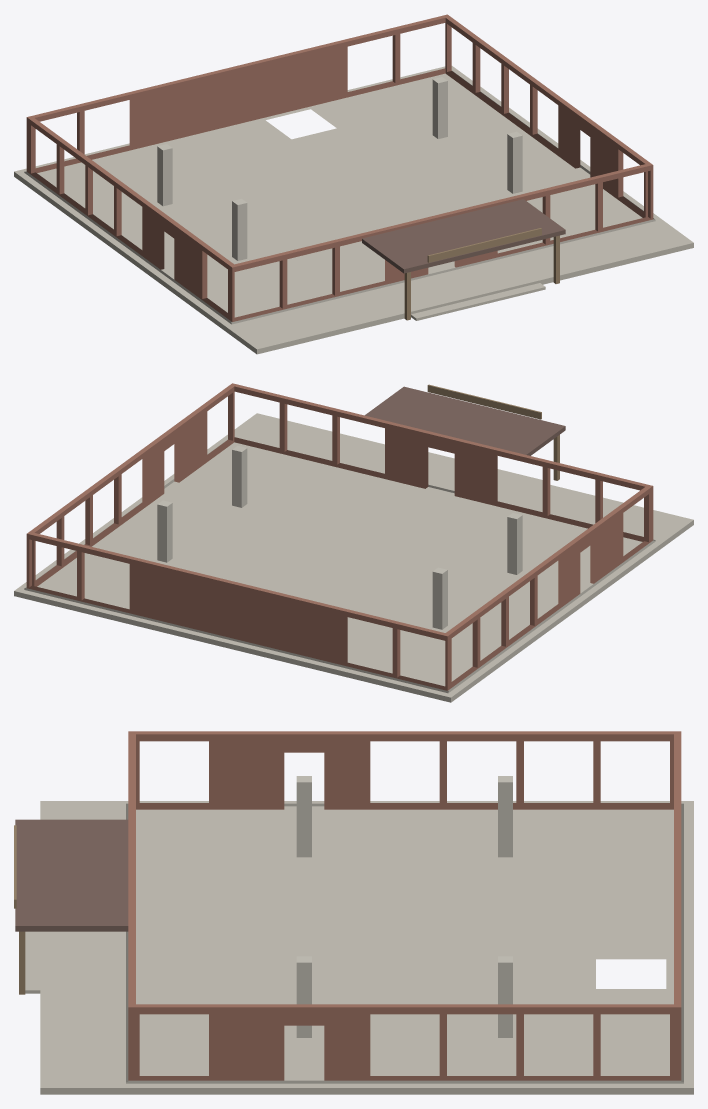
File: brick-lobby.shaft-v1.lod1.glb
The picture shows the model from 3 angles, top to bottom: view 1: azimuth 30°, elevation 25°; view 2: azimuth 150°, elevation 25°; view 3: azimuth 270°, elevation 25°; orthographic projection. The views are drawn at different scales.
Visible parts, largest first — view 1: brick-lobby; view 2: brick-lobby; view 3: brick-lobby.
Boxes of the visible parts, x1,y1,x2,y2 form: brick-lobby: (14,14,693,354); brick-lobby: (14,383,693,702); brick-lobby: (14,731,693,1094).
Bounding box in the file's own units: 27 × 3.92 × 27.05.
